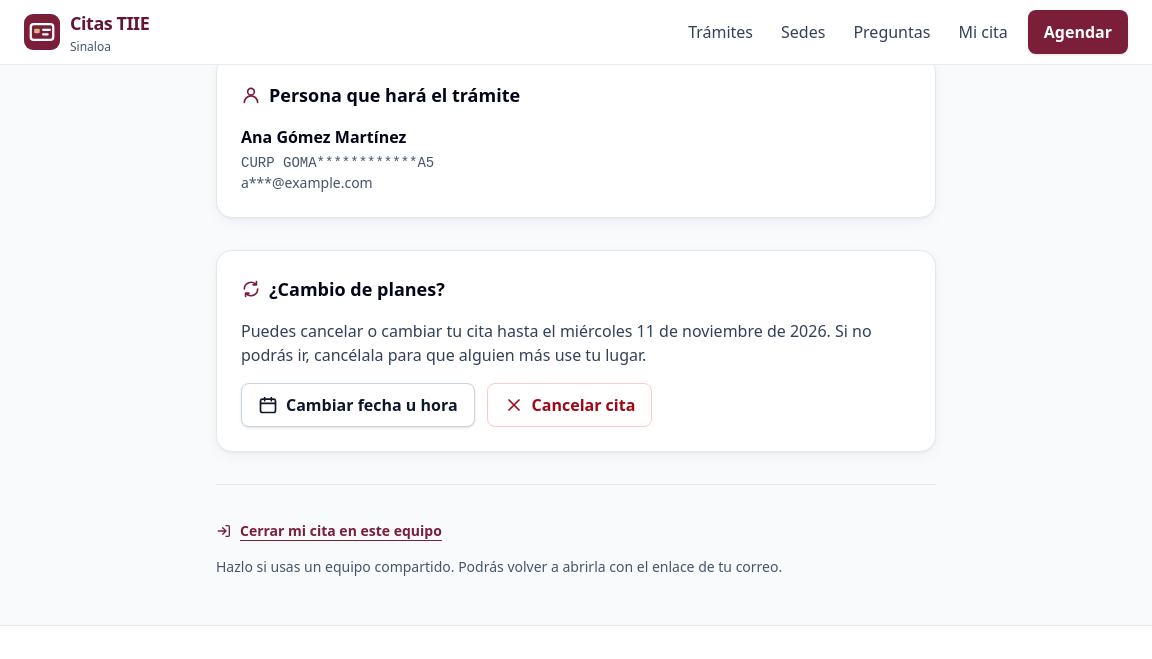
Test case: Mi cita › reprograma a otro día y hora de la misma oferta
(page scrolled)
Click the button "Cambiar fecha u hora".
click(358, 404)  # box [241,382,475,426]
(page scrolled)
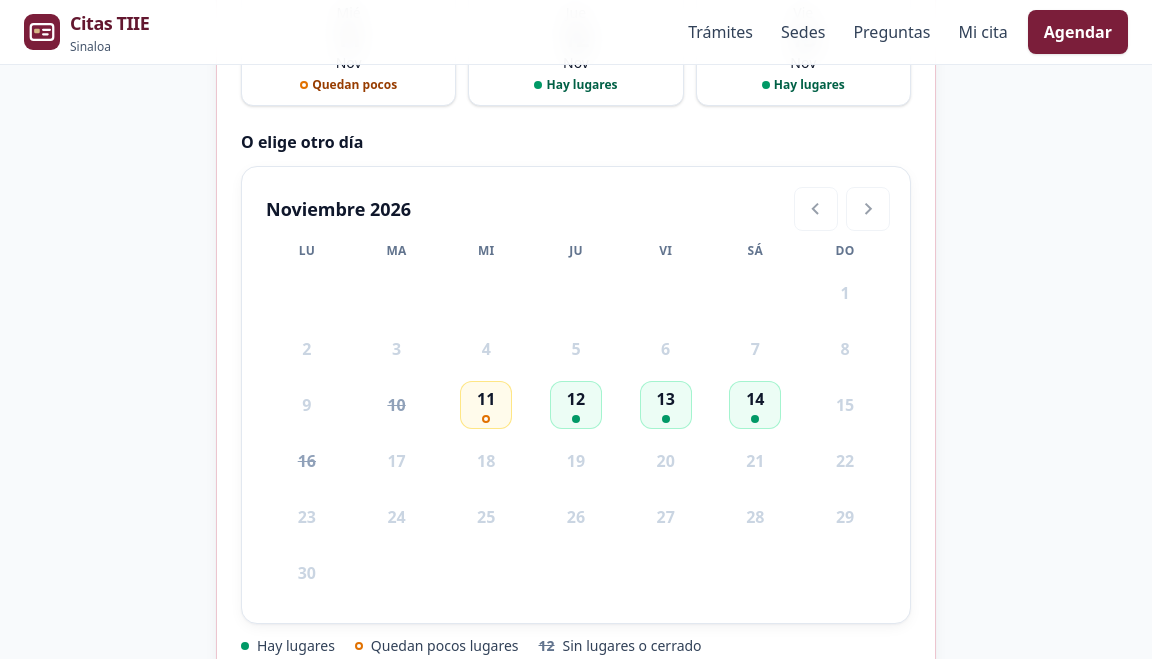
Click the button named "viernes 13 de noviembre, alta disponibilidad".
click(666, 404)  # box [640,380,692,428]
(page scrolled)
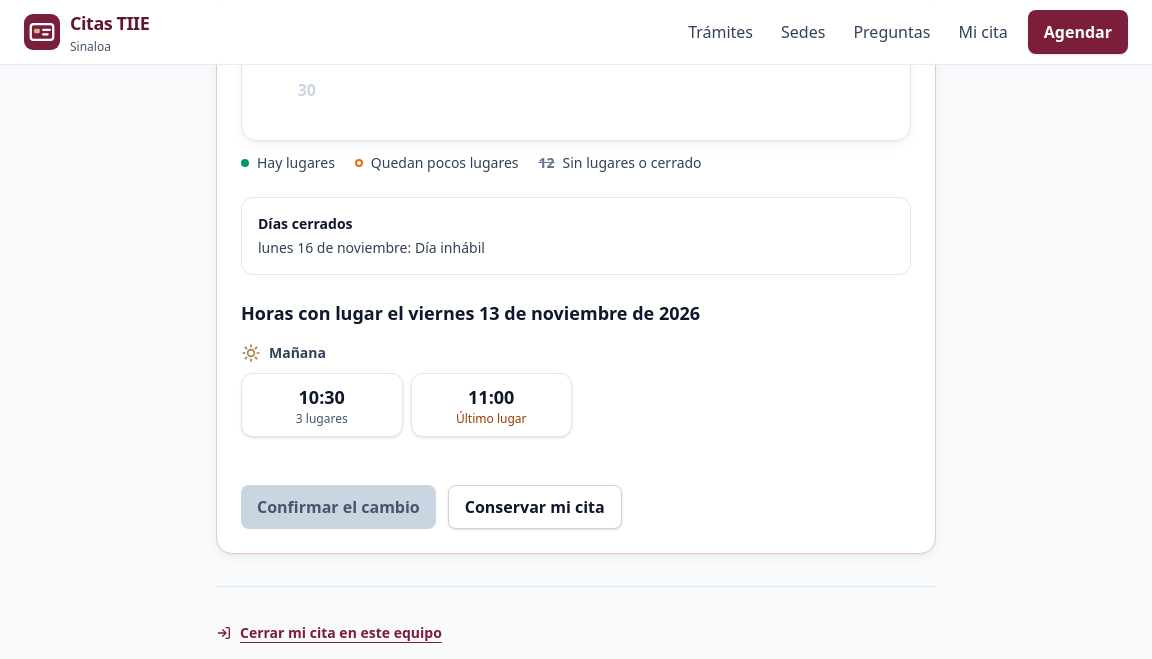
Click the radio button labelled "11:00 Último lugar".
click(491, 404)  # box [410,372,572,436]
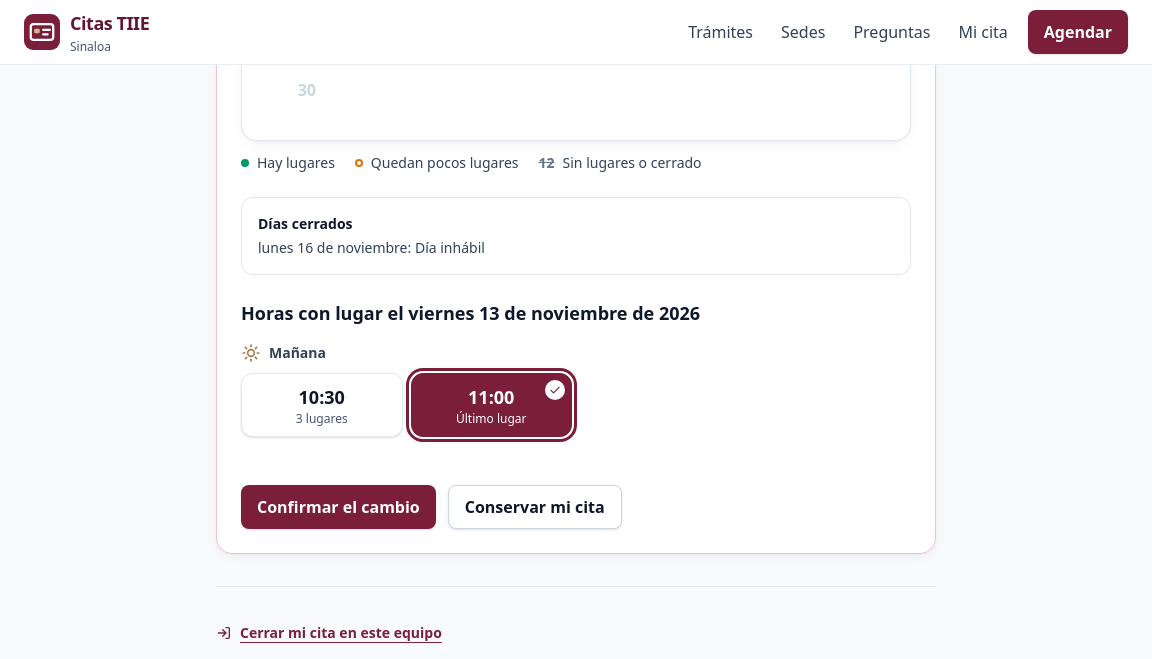
Click the button "Confirmar el cambio".
click(338, 506)  # box [241,484,436,528]
(page scrolled)
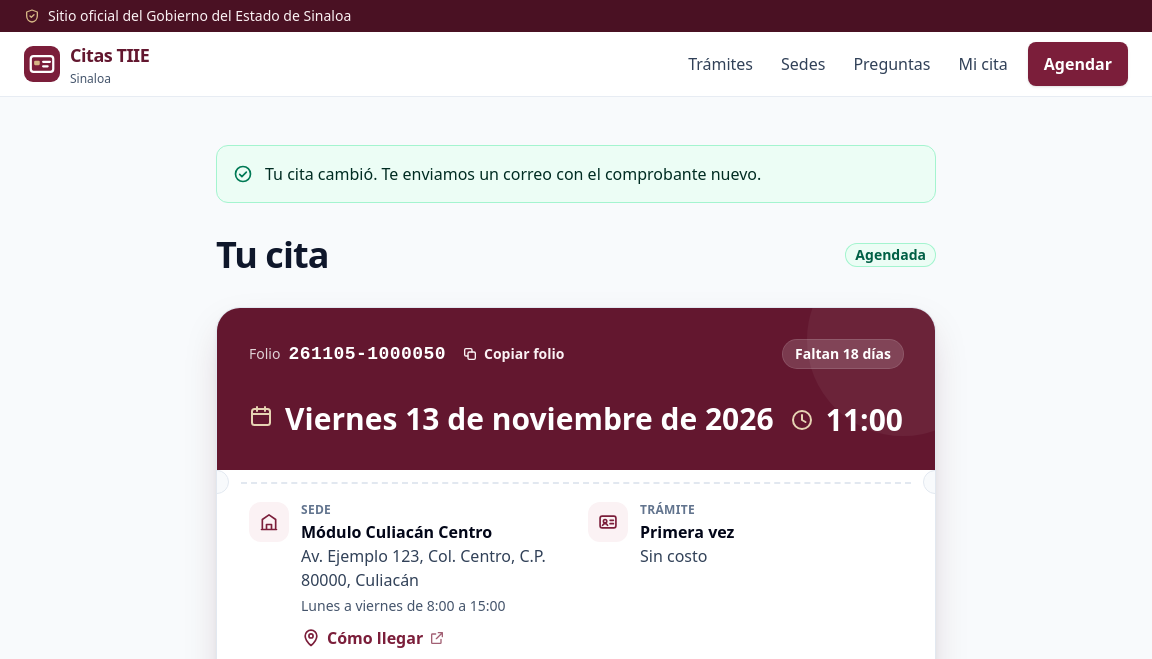
Expected: the text "Tu cita cambió. Te enviamos un correo con el comprobante nuevo." is shown, [265,163,761,185]
Expected: the text "261105-1000050" is shown, [288,340,446,368]
